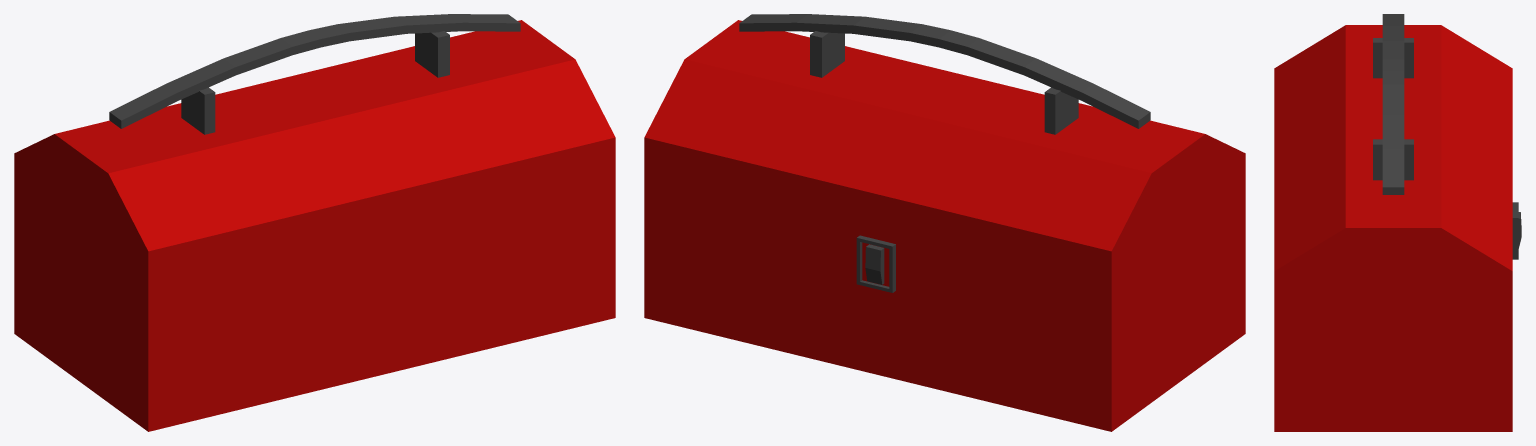
Rendered from ToolBox.fbx.
3 renders of one model, left to right at view 1: azimuth 30°, elevation 25°; view 2: azimuth 150°, elevation 25°; view 3: azimuth 270°, elevation 25°, orthographic. The views are drawn at different scales.
Visible parts, largest first — view 1: T-box; view 2: T-box; view 3: T-box.
Part boxes in pixels (<box>): T-box: <box>14,14,615,431</box>; T-box: <box>644,14,1245,431</box>; T-box: <box>1274,14,1521,431</box>.
Bounding box in the file's own units: 124 × 73.57 × 63.67.
